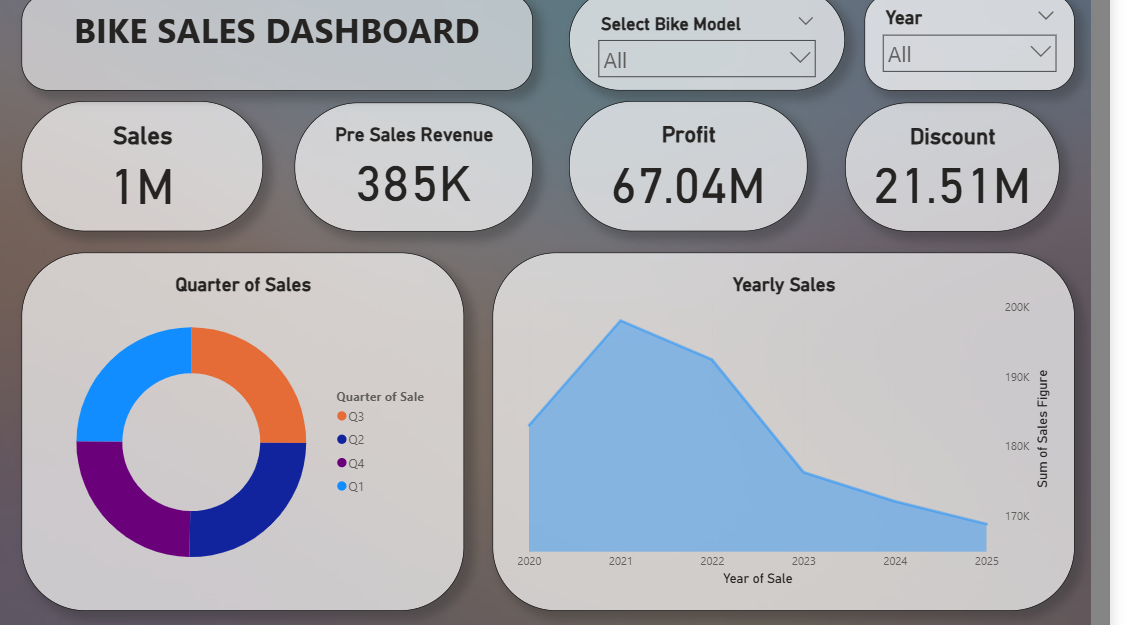

The page's visual inventory and layout, read from the dashboard file:
{"tool":"powerbi","page":{"name":"Page 1","canvas":[1280,720],"ordinal":0},"visuals":[{"type":"card","title":"Sales","fields":{"Values":["Sum(Sheet1.Sales Figure)"]},"box":[99.2,133.4,261.9,141.5],"z":0},{"type":"card","title":"Pre Sales Revenue","fields":{"Values":["Sum(Sheet1.Pre Sales Figure)"]},"box":[395.3,135,258.6,139.9],"z":1000},{"type":"card","title":"Discount","fields":{"Values":["Sum(Sheet1.Discount)"]},"box":[992.2,135,232.6,139.9],"z":3000},{"type":"donutChart","title":"Quarter of Sales","fields":{"Category":["Sheet1.Quarter of Sale"],"Y":["Sum(Sheet1.Sales Figure)"]},"box":[99.2,297.7,479.8,388.7],"z":4000},{"type":"areaChart","title":"Yearly Sales ","fields":{"Category":["Sheet1.Year of Sale"],"Y2":["Sum(Sheet1.Sales Figure)"]},"box":[610,297.7,631.1,388.7],"z":5000},{"type":"slicer","fields":{"Values":["Sheet1.Bike Model"]},"box":[692.9,11.4,299.3,110.6],"z":6000},{"type":"card","title":"Profit","fields":{"Values":["Sum(Sheet1.Profit)"]},"box":[692.9,133.4,258.6,141.5],"z":6001},{"type":"slicer","fields":{"Values":["Sheet1.Year of Sale"]},"box":[1013.3,16.3,227.7,105.7],"z":6002},{"type":"textbox","box":[99.2,16.3,554.7,105.7],"z":6003}]}

Visuals, with their boxes in screenshot pixels (x1, y1, x2, y2), scaled from the page's 1280x720 canvas onto the 1131x625 screenshot:
"Sales" card: x1=88 y1=116 x2=319 y2=239
"Pre Sales Revenue" card: x1=349 y1=117 x2=578 y2=239
"Discount" card: x1=877 y1=117 x2=1082 y2=239
"Quarter of Sales" donutChart: x1=88 y1=258 x2=512 y2=596
"Yearly Sales " areaChart: x1=539 y1=258 x2=1097 y2=596
slicer - Sheet1.Bike Model: x1=612 y1=10 x2=877 y2=106
"Profit" card: x1=612 y1=116 x2=841 y2=239
slicer - Sheet1.Year of Sale: x1=895 y1=14 x2=1097 y2=106
textbox: x1=88 y1=14 x2=578 y2=106
